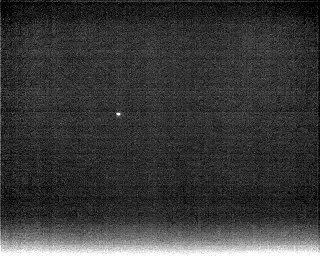AIRPLANE: (114, 109, 123, 119)
